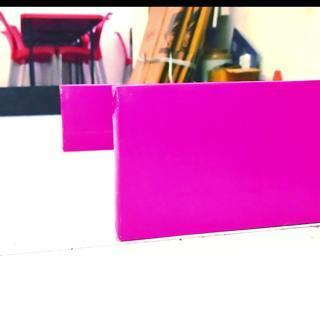xparking: (113, 80, 320, 240), (60, 82, 113, 155)
